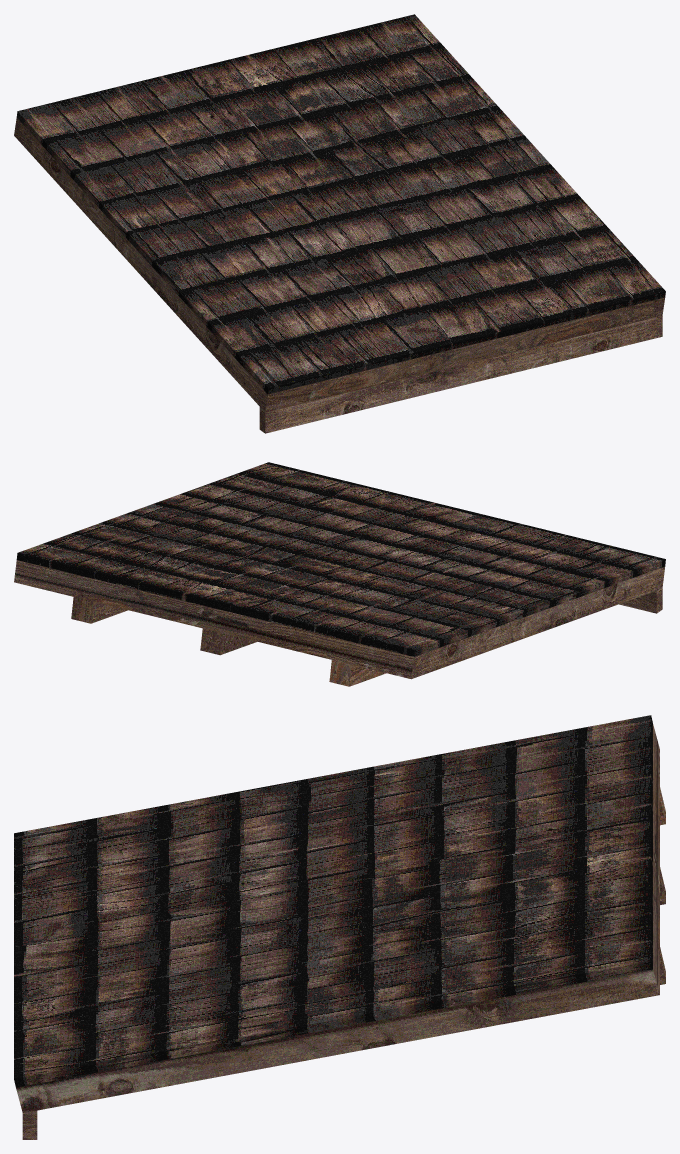
The model's file is porch-roofM.glb.
The picture shows the model from 3 angles, top to bottom: view 1: azimuth 30°, elevation 25°; view 2: azimuth 150°, elevation 25°; view 3: azimuth 270°, elevation 25°; orthographic projection. The views are drawn at different scales.
Parts seen in each view (by area): view 1: porch-roofM.001; view 2: porch-roofM.001; view 3: porch-roofM.001.
Part boxes in pixels (x1,y1,x2,y2): porch-roofM.001: (14,14,665,433); porch-roofM.001: (14,462,665,686); porch-roofM.001: (14,715,665,1139).
Size of the model in its own units: 2 by 0.6786 by 2.24.
2 materials, 2 textured.
